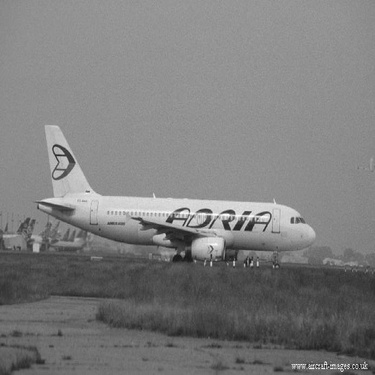airplane: (28, 112, 324, 281)
